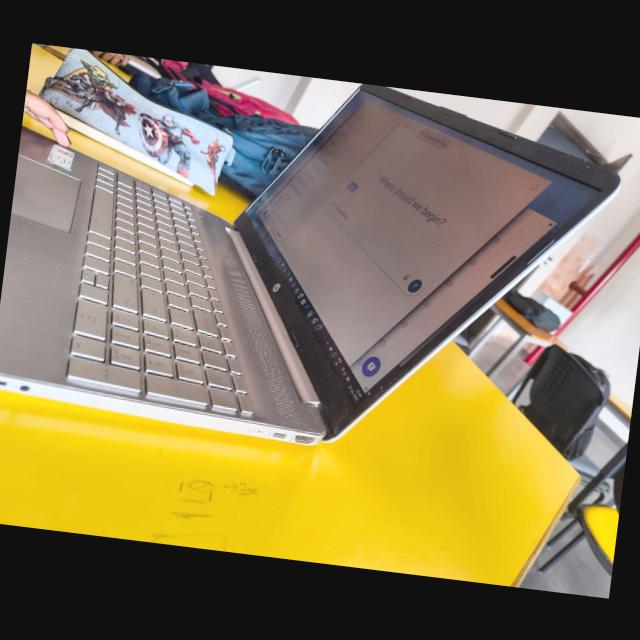laptop: (0, 53, 640, 475)
